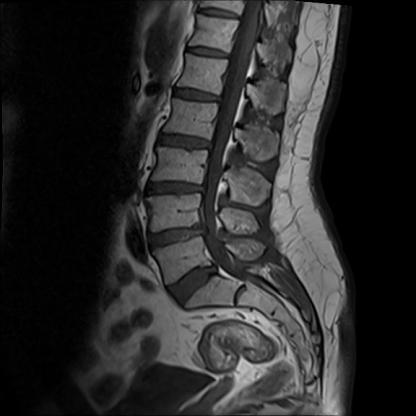Disc Bulgerotation: (146, 177, 206, 200), (157, 131, 211, 155), (148, 226, 203, 248)
Disc Protrusionrotation: (164, 268, 225, 300)
